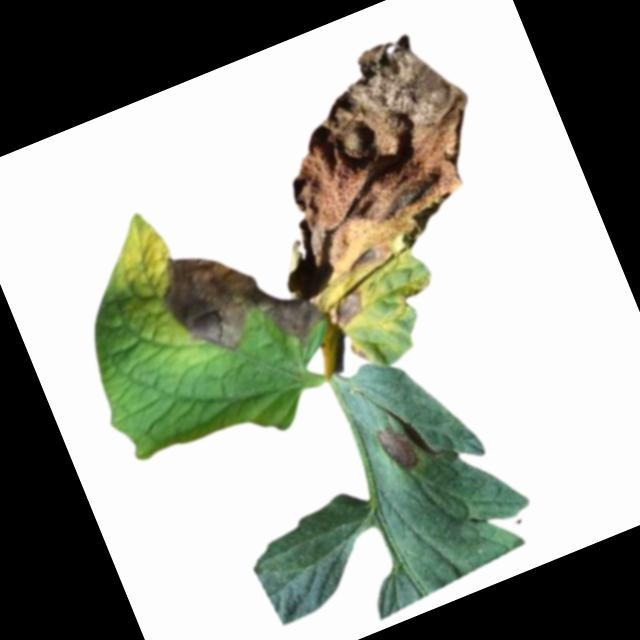Early_blight: (249, 20, 515, 287), (149, 216, 326, 383), (374, 419, 421, 476), (329, 289, 370, 330), (349, 340, 370, 364)
